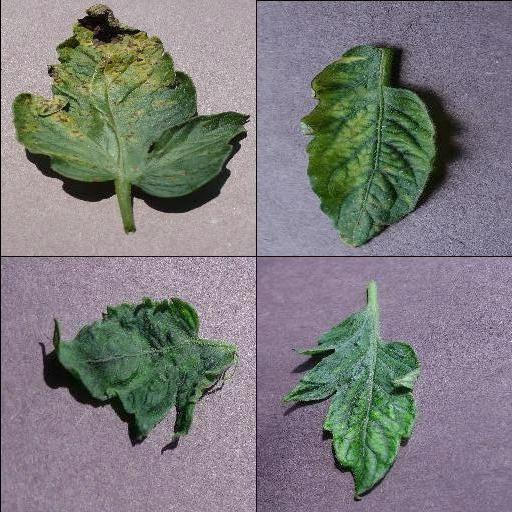Mosaic Virus: (298, 44, 438, 250), (50, 294, 234, 448), (283, 308, 421, 502)
Septoria: (11, 3, 249, 199)
